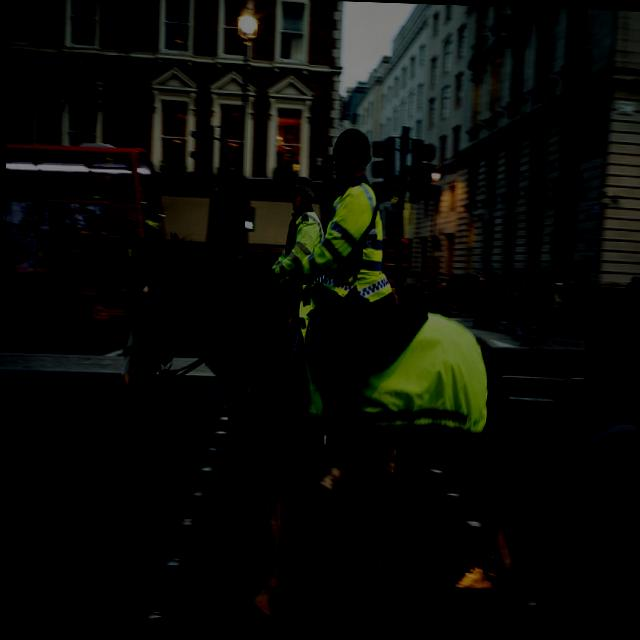Vehicle: (0, 130, 174, 338), (380, 237, 410, 295)
